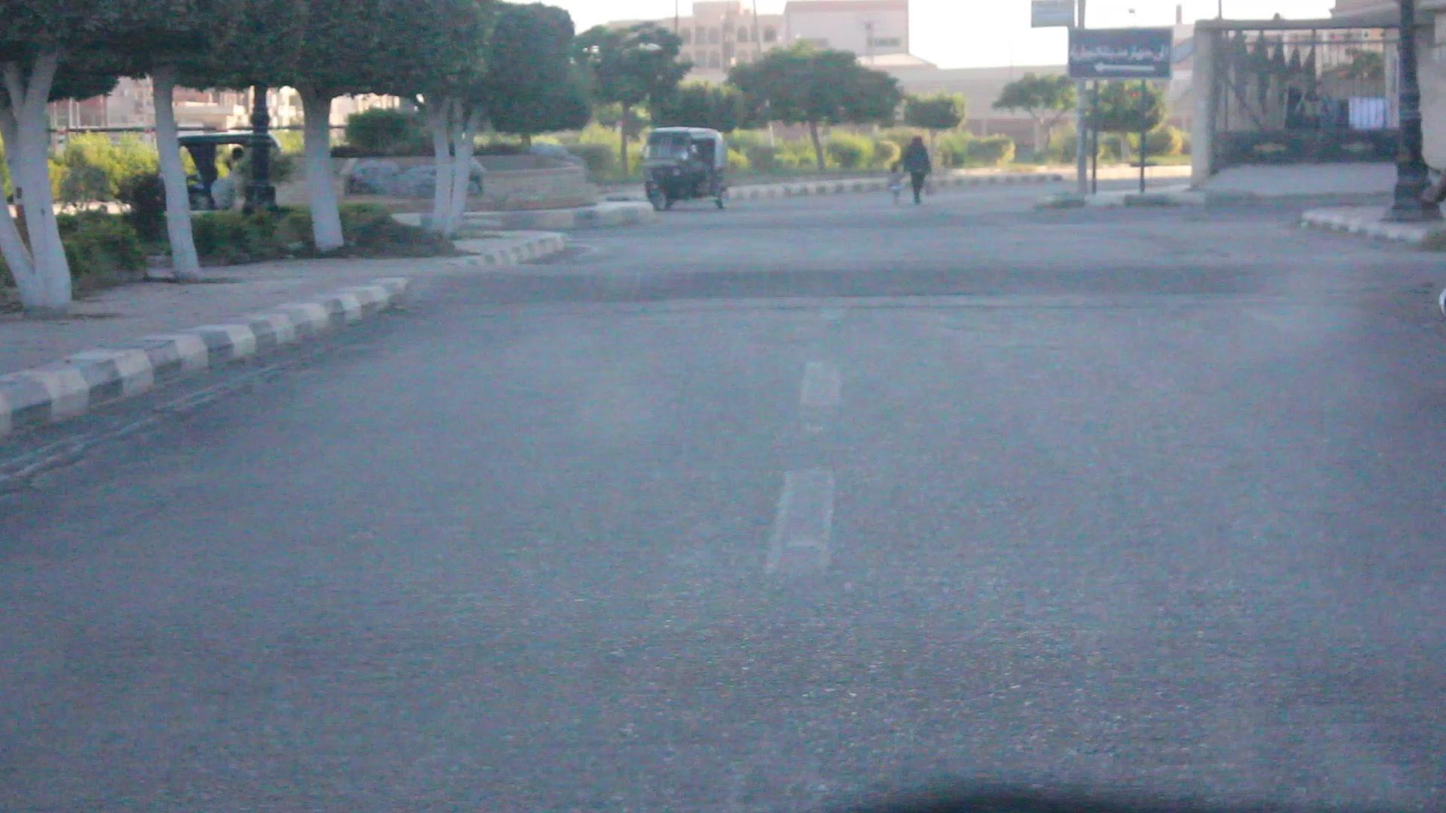Bump: (433, 255, 1435, 301)
